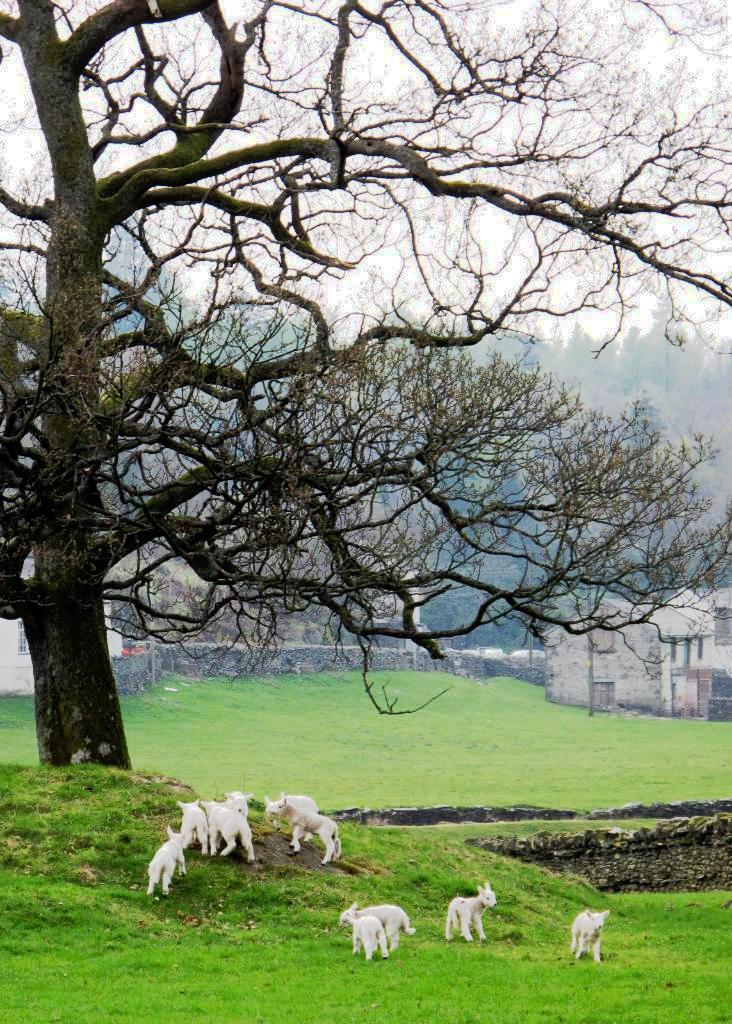Sheep: (272, 794, 339, 866), (198, 800, 254, 866), (144, 825, 188, 897), (446, 882, 499, 940), (338, 908, 391, 964), (352, 906, 419, 950), (268, 796, 319, 842), (571, 911, 611, 960), (182, 802, 210, 854), (226, 788, 252, 816)
